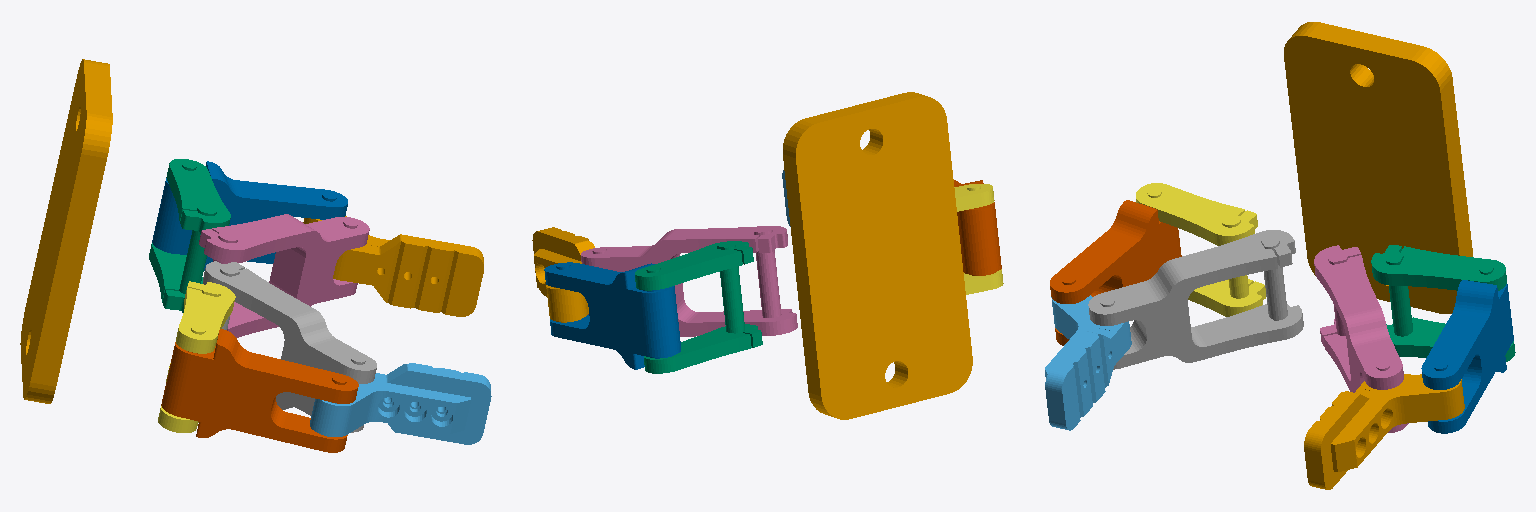
The robot description file, URDF, robot "robotiq_c2":
<?xml version="1.0" ?>
<robot name="robotiq_c2" xmlns:xacro="http://ros.org/wiki/xacro">
  <link name="robotiq_85_adapter_link">
    <visual>
      <geometry>
        <mesh filename="../meshes/robotiq_c2/visual/robotiq_85_gripper_adapter_plate.obj"/>
      </geometry>
      <origin rpy="1.5707 0 1.5707" xyz="0 0 0"/>
    </visual>
    <collision>
      <geometry>
        <mesh filename="../meshes/robotiq_c2/collision/robotiq_85_gripper_adapter_plate.stl"/>
      </geometry>
      <origin rpy="0 0 1.5707" xyz="0 0 0"/>
    </collision>
  </link>

  <joint name="robotiq_85_base_joint" type="fixed">
    <parent link="robotiq_85_adapter_link"/>
    <child link="robotiq_85_base_link"/>
    <axis xyz="1 0 0"/>
    <origin rpy="0 0 0" xyz=".0085 0 -.0041"/>
  </joint>
  <link name="robotiq_85_base_link">
    <visual>
      <geometry>
        <mesh filename="../meshes/robotiq_c2/visual/robotiq_85_gripper_base.obj"/>
      </geometry>
      <origin rpy="3.1415 0 1.5707" xyz="0 0 0"/>
    </visual>
    <collision>
      <geometry>
        <mesh filename="../meshes/robotiq_c2/collision/robotiq_85_gripper_base.stl"/>
      </geometry>
      <origin rpy="1.5707 0 1.5707" xyz="0 0 0"/>
    </collision>
  </link>

  <joint name="robotiq_85_left_knuckle_joint" type="revolute">
    <parent link="robotiq_85_base_link"/>
    <child link="robotiq_85_left_knuckle_link"/>
    <axis xyz="1 0 0"/>
    <origin rpy="-1.5707 1.5707 0" xyz="0.04191 0.0306 0"/>
    <limit effort="1000" lower="0" upper="0.8575" velocity="2.0"/>
  </joint>
  <joint name="robotiq_85_right_knuckle_joint" type="revolute">
    <parent link="robotiq_85_base_link"/>
    <child link="robotiq_85_right_knuckle_link"/>
    <axis xyz="1 0 0"/>
    <origin rpy="1.5707 -1.5707 0" xyz=".04191 -.0306 0"/>
    <limit effort="1000" lower="0" upper="1.5707" velocity="2.0"/>
    <mimic joint="robotiq_85_left_knuckle_joint" multiplier="1"/>
  </joint>
  <link name="robotiq_85_left_knuckle_link">
    <visual>
      <geometry>
        <mesh filename="../meshes/robotiq_c2/visual/robotiq_85_gripper_joint_0_L.obj"/>
      </geometry>
      <origin rpy="3.14159 -1.5707 0" xyz="0 .04191 -.0306"/>
    </visual>
    <collision>
      <geometry>
        <mesh filename="../meshes/robotiq_c2/collision/robotiq_85_gripper_joint_0_L.stl"/>
      </geometry>
      <origin rpy="1.5707 -1.5707 0" xyz="0 .04191 -.0306"/>
    </collision>
  </link>
  <link name="robotiq_85_right_knuckle_link">
    <visual>
      <geometry>
        <mesh filename="../meshes/robotiq_c2/visual/robotiq_85_gripper_joint_0_R.obj"/>
      </geometry>
      <origin rpy="3.14159 1.5707 0" xyz="0 .04191 -.0306"/>
    </visual>
    <collision>
      <geometry>
        <mesh filename="../meshes/robotiq_c2/collision/robotiq_85_gripper_joint_0_R.stl"/>
      </geometry>
      <origin rpy="1.5707 1.5707 0" xyz="0 .04191 -.0306"/>
    </collision>
  </link>

  <joint name="robotiq_85_left_finger_joint" type="fixed">
    <parent link="robotiq_85_left_knuckle_link"/>
    <child link="robotiq_85_left_finger_link"/>
    <axis xyz="1 0 0"/>
    <origin rpy="3.1415 0 0" xyz="0 .00508 .03134"/>
    <limit effort="1000" lower="0" upper="1.5707" velocity="2.0"/>
  </joint>
  <joint name="robotiq_85_right_finger_joint" type="fixed">
    <parent link="robotiq_85_right_knuckle_link"/>
    <child link="robotiq_85_right_finger_link"/>
    <axis xyz="1 0 0"/>
    <origin rpy="3.1415 0 0" xyz="0 .00508 .03134"/>
    <limit effort="1000" lower="0" upper="1.5707" velocity="2.0"/>
  </joint>
  <link name="robotiq_85_left_finger_link">
    <visual>
      <geometry>
        <mesh filename="../meshes/robotiq_c2/visual/robotiq_85_gripper_joint_1_L.obj"/>
      </geometry>
      <origin rpy="0 1.5707 0" xyz="0 -.03683 .06194"/>
    </visual>
    <collision>
      <geometry>
        <mesh filename="../meshes/robotiq_c2/collision/robotiq_85_gripper_joint_1_L.stl"/>
      </geometry>
      <origin rpy="-1.5707 1.5707 0" xyz="0 -.03683 .06194"/>
    </collision>
  </link>
  <link name="robotiq_85_right_finger_link">
    <visual>
      <geometry>
        <mesh filename="../meshes/robotiq_c2/visual/robotiq_85_gripper_joint_1_R.obj"/>
      </geometry>
      <origin rpy="0 -1.5707 0" xyz="0 -.03683 .06194"/>
    </visual>
    <collision>
      <geometry>
        <mesh filename="../meshes/robotiq_c2/collision/robotiq_85_gripper_joint_1_R.stl"/>
      </geometry>
      <origin rpy="-1.5707 -1.5707 0" xyz="0 -.03683 .06194"/>
    </collision>
  </link>

  <joint name="robotiq_85_left_inner_knuckle_joint" type="revolute">
    <parent link="robotiq_85_base_link"/>
    <child link="robotiq_85_left_inner_knuckle_link"/>
    <axis xyz="1 0 0"/>
    <origin rpy="1.5707 1.5707 0" xyz=".04843 .0127 0"/>
    <limit effort="1000" lower="0" upper="1.5707" velocity="2.0"/>
    <mimic joint="robotiq_85_left_knuckle_joint" offset="0"/>
  </joint>
  <joint name="robotiq_85_right_inner_knuckle_joint" type="revolute">
    <parent link="robotiq_85_base_link"/>
    <child link="robotiq_85_right_inner_knuckle_link"/>
    <axis xyz="1 0 0"/>
    <origin rpy="-1.5707 -1.5707 0" xyz=".04843 -.0127 0"/>
    <limit effort="1000" lower="0" upper="1.5707" velocity="2.0"/>
    <mimic joint="robotiq_85_left_knuckle_joint" offset="0"/>
  </joint>
  <link name="robotiq_85_left_inner_knuckle_link">
    <visual>
      <geometry>
        <mesh filename="../meshes/robotiq_c2/visual/robotiq_85_gripper_joint_2_L.obj"/>
      </geometry>
      <origin rpy="0 1.5707 0" xyz="0 -.04843 .0127"/>
    </visual>
    <collision>
      <geometry>
        <mesh filename="../meshes/robotiq_c2/collision/robotiq_85_gripper_joint_2_L.stl"/>
      </geometry>
      <origin rpy="-1.5707 1.5707 0" xyz="0 -.04843 .0127"/>
    </collision>
  </link>
  <link name="robotiq_85_right_inner_knuckle_link">
    <visual>
      <geometry>
        <mesh filename="../meshes/robotiq_c2/visual/robotiq_85_gripper_joint_2_R.obj"/>
      </geometry>
      <origin rpy="0 -1.5707 0" xyz="0 -.04843 .0127"/>
    </visual>
    <collision>
      <geometry>
        <mesh filename="../meshes/robotiq_c2/collision/robotiq_85_gripper_joint_2_R.stl"/>
      </geometry>
      <origin rpy="-1.5707 -1.5707 0" xyz="0 -.04843 .0127"/>
    </collision>
  </link>
  
  <joint name="robotiq_85_left_finger_tip_joint" type="revolute">
    <parent link="robotiq_85_left_inner_knuckle_link"/>
    <child link="robotiq_85_left_finger_tip_link"/>
    <axis xyz="1 0 0"/>
    <origin rpy="0 0 0" xyz="0 .04196 -.0388"/>
    <limit effort="1000" lower="0" upper="1.5707" velocity="2.0"/>
    <mimic joint="robotiq_85_left_knuckle_joint" multiplier="-1"/>
  </joint>
  <joint name="robotiq_85_right_finger_tip_joint" type="revolute">
    <parent link="robotiq_85_right_inner_knuckle_link"/>
    <child link="robotiq_85_right_finger_tip_link"/>
    <axis xyz="1 0 0"/>
    <origin rpy="0 0 0" xyz="0 .04196 -.0388"/>
    <limit effort="1000" lower="0" upper="1.5707" velocity="2.0"/>
    <mimic joint="robotiq_85_left_knuckle_joint" multiplier="-1"/>
  </joint>
  <link name="robotiq_85_left_finger_tip_link">
    <visual>
      <geometry>
        <mesh filename="../meshes/robotiq_c2/visual/robotiq_85_gripper_joint_3_L.obj"/>
      </geometry>
      <origin rpy="0 1.5707 0" xyz="0 -.090381 .051505"/>
    </visual>
    <collision>
      <geometry>
        <mesh filename="../meshes/robotiq_c2/collision/robotiq_85_gripper_joint_3_L.stl"/>
      </geometry>
      <origin rpy="-1.5707 1.5707 0" xyz="0 -.090381 .051505"/>
    </collision>
  </link>
  <link name="robotiq_85_right_finger_tip_link">
    <visual>
      <geometry>
        <mesh filename="../meshes/robotiq_c2/visual/robotiq_85_gripper_joint_3_R.obj"/>
      </geometry>
      <origin rpy="0 -1.5707 0" xyz="0 -.090381 .051505"/>
    </visual>
    <collision>
      <geometry>
        <mesh filename="../meshes/robotiq_c2/collision/robotiq_85_gripper_joint_3_R.stl"/>
      </geometry>
      <origin rpy="-1.5707 -1.5707 0" xyz="0 -.090381 .051505"/>
    </collision>
  </link>

  <link name="world"/>
  <joint name="world_joint" type="fixed">
    <parent link="world"/>
    <child link="robotiq_85_adapter_link"/>
    <origin rpy="0.0 0.2 -0.5" xyz="0.0 0.0 0.2"/>
  </joint>

</robot>

--- Facts derived from the render (not from the file) ---
The picture shows the robot from 3 angles, left to right: view 1: azimuth 30°, elevation 25°; view 2: azimuth 150°, elevation 25°; view 3: azimuth 270°, elevation 25°; orthographic projection.
Model robotiq_c2 with 11 links and 10 joints (6 revolute, 4 fixed), rooted at world, posed all joints at 0.
Links seen in each view (by area): view 1: robotiq_85_adapter_link, robotiq_85_right_finger_link, robotiq_85_left_inner_knuckle_link, robotiq_85_right_finger_tip_link, robotiq_85_left_finger_tip_link, robotiq_85_right_inner_knuckle_link, robotiq_85_left_finger_link, robotiq_85_left_knuckle_link, robotiq_85_right_knuckle_link; view 2: robotiq_85_adapter_link, robotiq_85_left_finger_link, robotiq_85_left_inner_knuckle_link, robotiq_85_left_knuckle_link, robotiq_85_left_finger_tip_link, robotiq_85_right_finger_link, robotiq_85_right_knuckle_link; view 3: robotiq_85_adapter_link, robotiq_85_right_inner_knuckle_link, robotiq_85_left_finger_tip_link, robotiq_85_left_finger_link, robotiq_85_left_inner_knuckle_link, robotiq_85_right_finger_link, robotiq_85_right_finger_tip_link, robotiq_85_left_knuckle_link, robotiq_85_right_knuckle_link.
Link boxes in pixels (x1,y1,x2,y2): robotiq_85_adapter_link: [20, 59, 112, 403]; robotiq_85_right_finger_link: [161, 329, 358, 452]; robotiq_85_left_inner_knuckle_link: [199, 214, 369, 337]; robotiq_85_right_finger_tip_link: [310, 363, 491, 444]; robotiq_85_left_finger_tip_link: [303, 216, 483, 316]; robotiq_85_right_inner_knuckle_link: [203, 261, 376, 432]; robotiq_85_left_finger_link: [152, 161, 347, 270]; robotiq_85_left_knuckle_link: [149, 159, 230, 312]; robotiq_85_right_knuckle_link: [158, 281, 235, 432]; robotiq_85_adapter_link: [783, 92, 972, 419]; robotiq_85_left_finger_link: [544, 262, 680, 369]; robotiq_85_left_inner_knuckle_link: [581, 226, 797, 336]; robotiq_85_left_knuckle_link: [635, 241, 762, 373]; robotiq_85_left_finger_tip_link: [532, 227, 594, 322]; robotiq_85_right_finger_link: [954, 180, 1001, 275]; robotiq_85_right_knuckle_link: [954, 184, 1003, 294]; robotiq_85_adapter_link: [1284, 22, 1472, 313]; robotiq_85_right_inner_knuckle_link: [1088, 230, 1303, 369]; robotiq_85_left_finger_tip_link: [1304, 374, 1464, 489]; robotiq_85_left_finger_link: [1421, 280, 1513, 433]; robotiq_85_left_inner_knuckle_link: [1314, 245, 1408, 432]; robotiq_85_right_finger_link: [1050, 200, 1181, 345]; robotiq_85_right_finger_tip_link: [1045, 295, 1131, 430]; robotiq_85_left_knuckle_link: [1371, 245, 1515, 361]; robotiq_85_right_knuckle_link: [1136, 183, 1265, 316].
Size in the robot's own frame: 0.168 by 0.1544 by 0.1034 metres.
Meshes: 10 distinct files referenced, 9 mesh visuals loaded (9 OBJ); not drawn: 1 (reference not matched to a file when rendering).